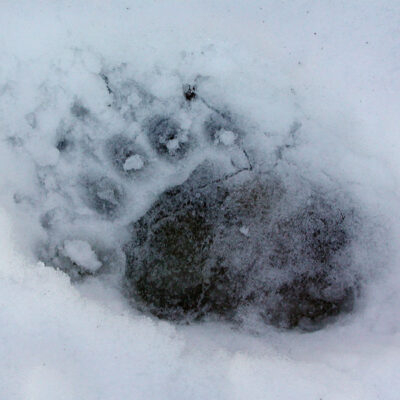bear: (29, 56, 373, 373)
